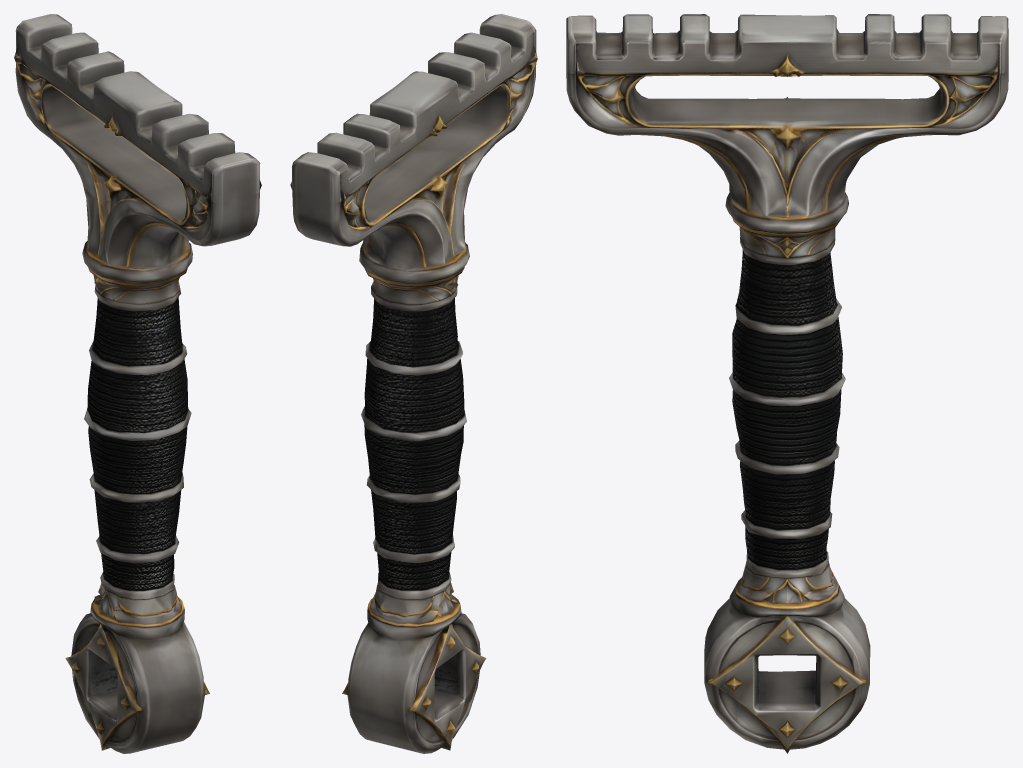
The model's file is hilt_kings_remnant.glb.
3 renders of one model, left to right at view 1: azimuth 30°, elevation 25°; view 2: azimuth 150°, elevation 25°; view 3: azimuth 270°, elevation 25°, orthographic. The views are drawn at different scales.
Visible parts, largest first — view 1: tripo_node_64e6f4cc-9de4-4b49-8a69-74a7c5b253c0; view 2: tripo_node_64e6f4cc-9de4-4b49-8a69-74a7c5b253c0; view 3: tripo_node_64e6f4cc-9de4-4b49-8a69-74a7c5b253c0.
Part boxes in pixels (x1=…): tripo_node_64e6f4cc-9de4-4b49-8a69-74a7c5b253c0: x1=14, y1=14, x2=261, y2=753; tripo_node_64e6f4cc-9de4-4b49-8a69-74a7c5b253c0: x1=290, y1=14, x2=537, y2=753; tripo_node_64e6f4cc-9de4-4b49-8a69-74a7c5b253c0: x1=566, y1=14, x2=1008, y2=753.
Bounding box in the file's own units: 0.1519 × 1 × 0.5627.
1 material, 1 textured.
